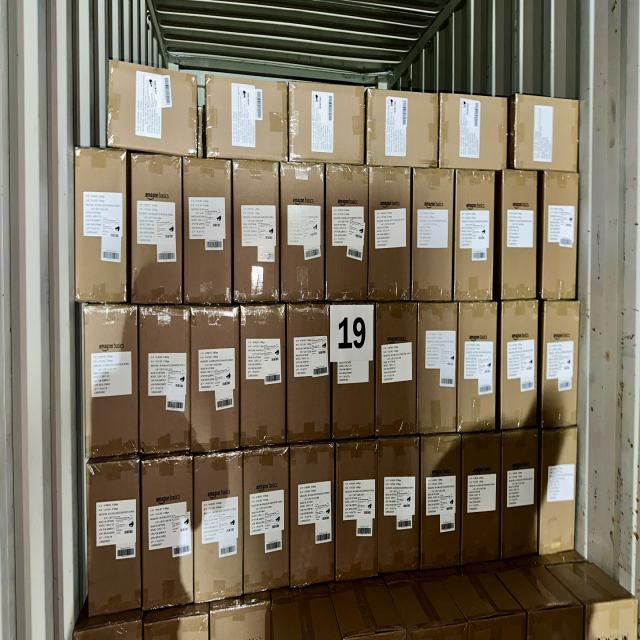Carton: (86, 302, 141, 456), (110, 59, 198, 154), (85, 461, 138, 618), (74, 149, 127, 305), (142, 455, 194, 609), (193, 454, 243, 606), (131, 154, 181, 305), (139, 307, 190, 453), (205, 75, 286, 164), (184, 159, 233, 304), (192, 309, 240, 455), (231, 162, 278, 304), (290, 81, 368, 166), (244, 446, 290, 590), (330, 304, 377, 442), (290, 445, 332, 591), (239, 307, 283, 446), (280, 164, 324, 302), (337, 442, 379, 586), (287, 304, 329, 442), (327, 167, 370, 300), (369, 89, 440, 168), (378, 304, 419, 438), (413, 167, 454, 301), (380, 438, 420, 574), (457, 170, 498, 301), (368, 168, 409, 299), (441, 94, 510, 171), (418, 304, 458, 436), (460, 303, 499, 435), (515, 95, 581, 173), (421, 437, 460, 569), (464, 436, 502, 568), (499, 172, 537, 302), (543, 302, 581, 430), (500, 432, 538, 559), (543, 172, 580, 300), (500, 302, 537, 429), (542, 429, 578, 555)
